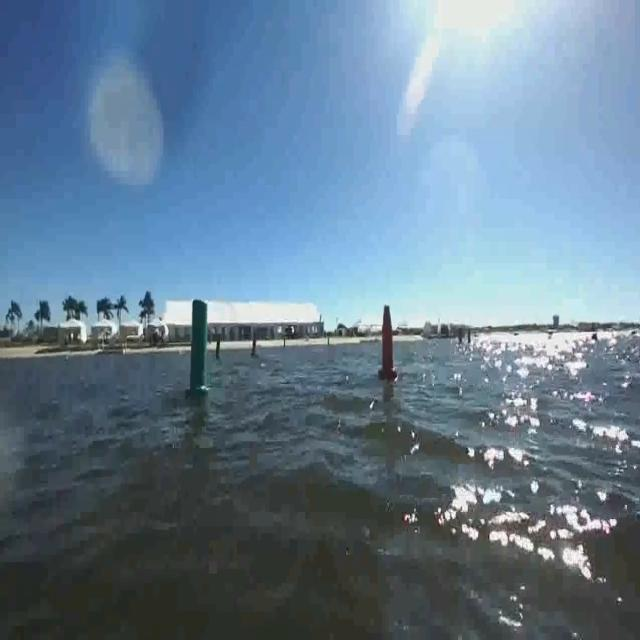green-column-buoy: (186, 301, 212, 399)
red-column-buoy: (379, 303, 398, 381), (250, 333, 260, 359)
